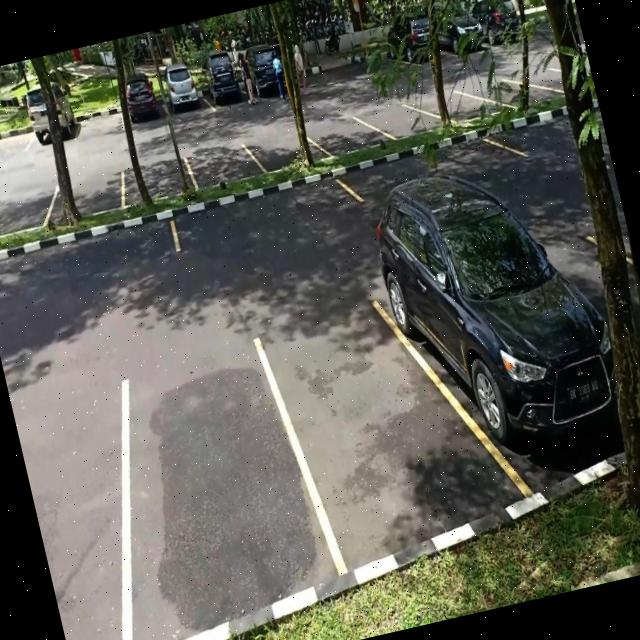empty: (80, 335, 339, 640), (260, 291, 476, 578), (166, 167, 366, 260), (46, 168, 132, 224), (0, 177, 68, 242), (116, 153, 197, 206), (308, 110, 382, 160), (184, 141, 257, 190), (249, 127, 319, 175), (369, 96, 435, 144), (69, 100, 127, 142), (0, 117, 35, 166)
occupied: (372, 196, 636, 504), (18, 86, 84, 152), (111, 71, 168, 131), (154, 61, 210, 121), (198, 52, 250, 113)
